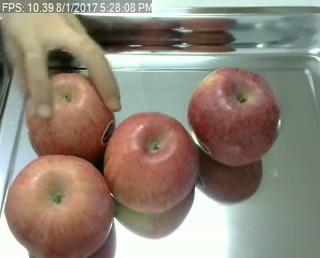apple: (5, 153, 112, 256), (104, 112, 198, 213), (187, 66, 281, 166), (26, 74, 114, 157)
